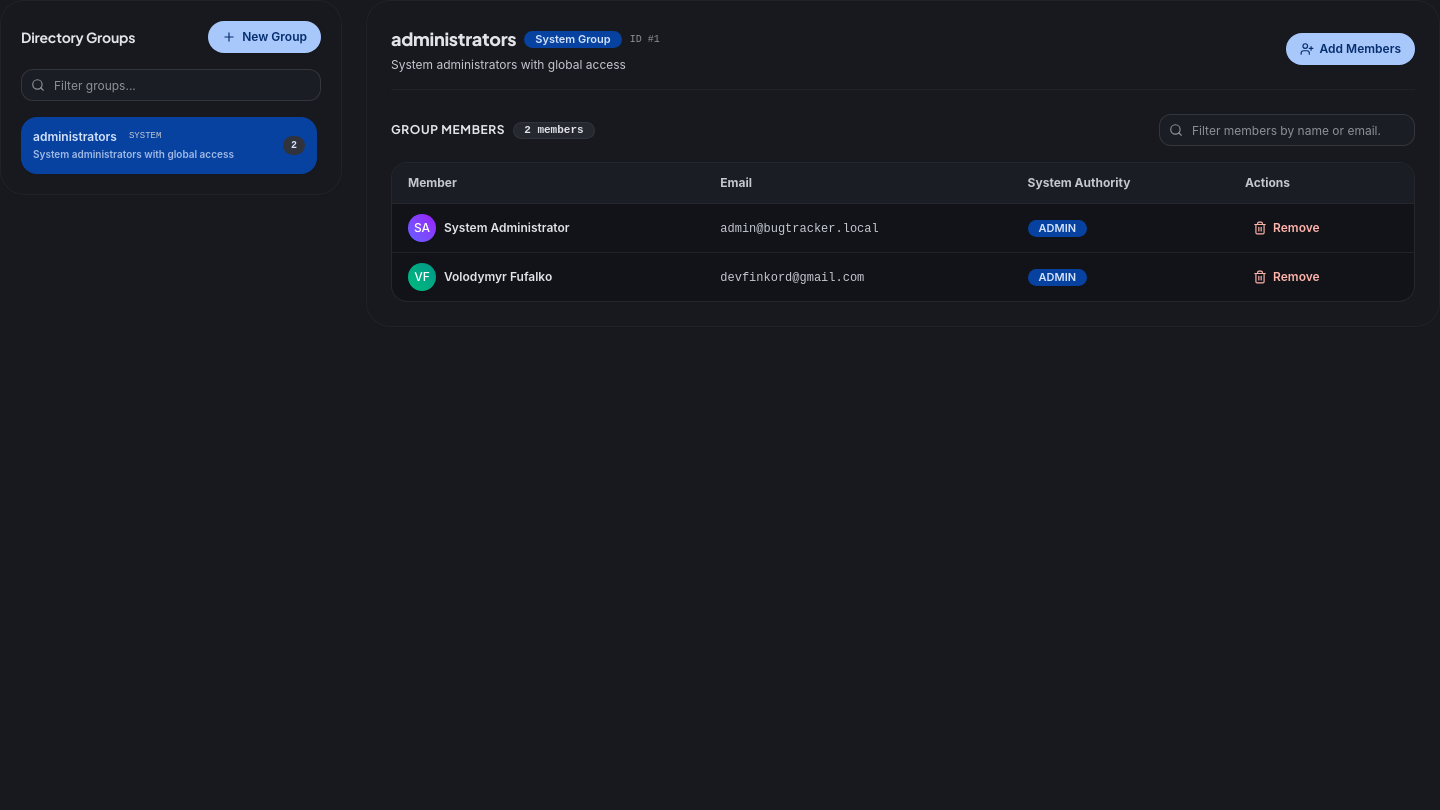
Test: GroupsManagerTab › renders Add Members button and opens the AddGroupMembersModal when clicked
Click the button "Add Members". click: x=1350, y=49
box: [1286, 33, 1415, 65]
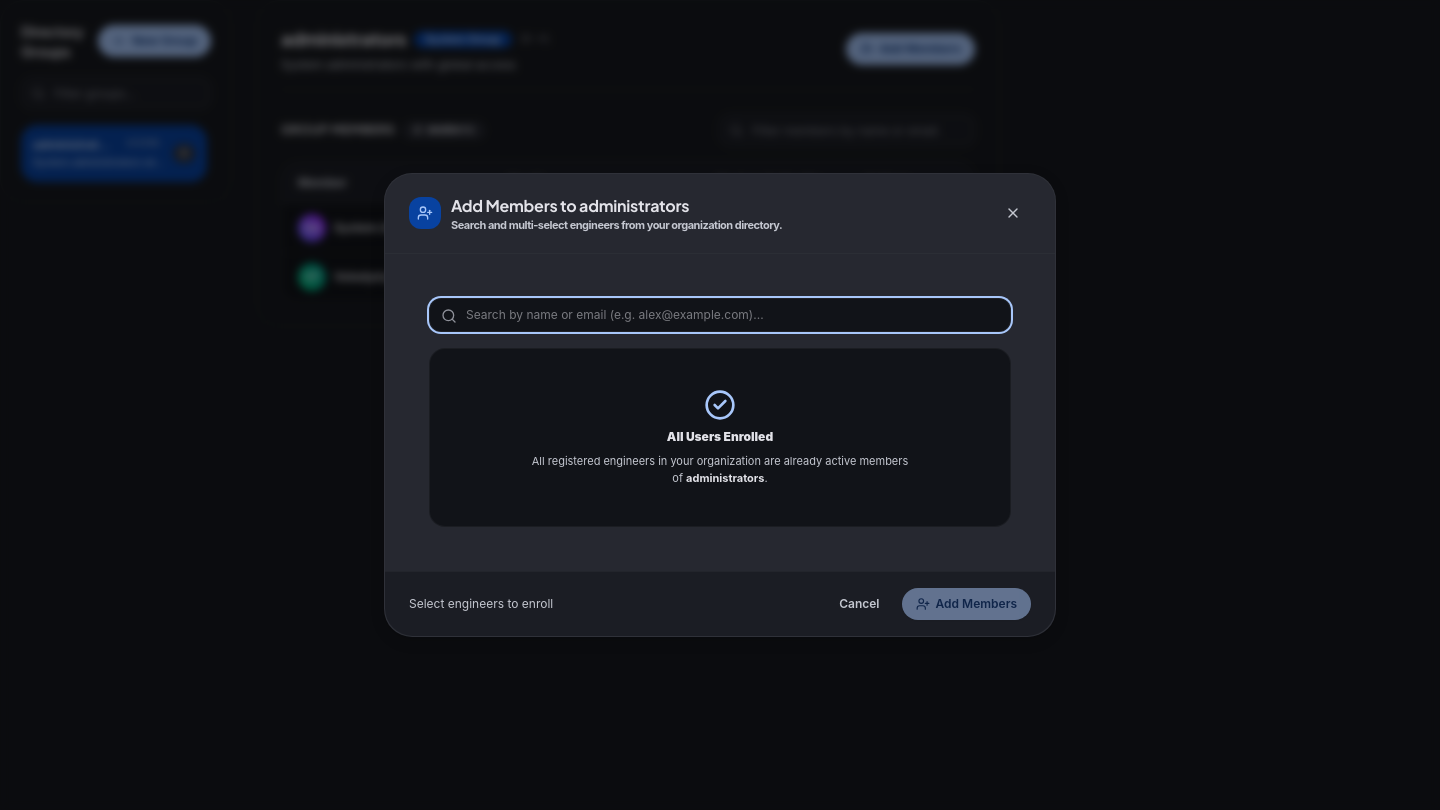
Result: the heading "Add Members to administrators" is shown at [451, 195, 689, 216]
Result: the field with placeholder "Search by name or email (e.g. alex@example.com)..." is shown at [429, 298, 1011, 332]
